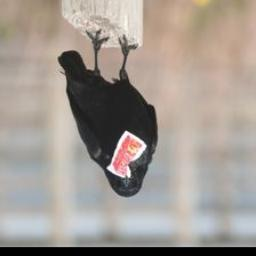Crow: (57, 28, 160, 199)
